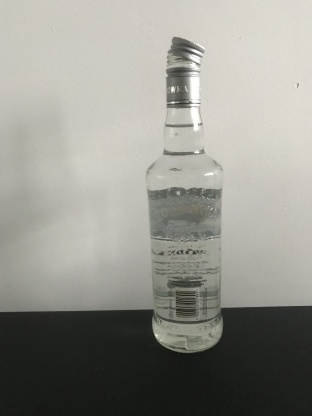nakretka: (164, 33, 206, 108)
